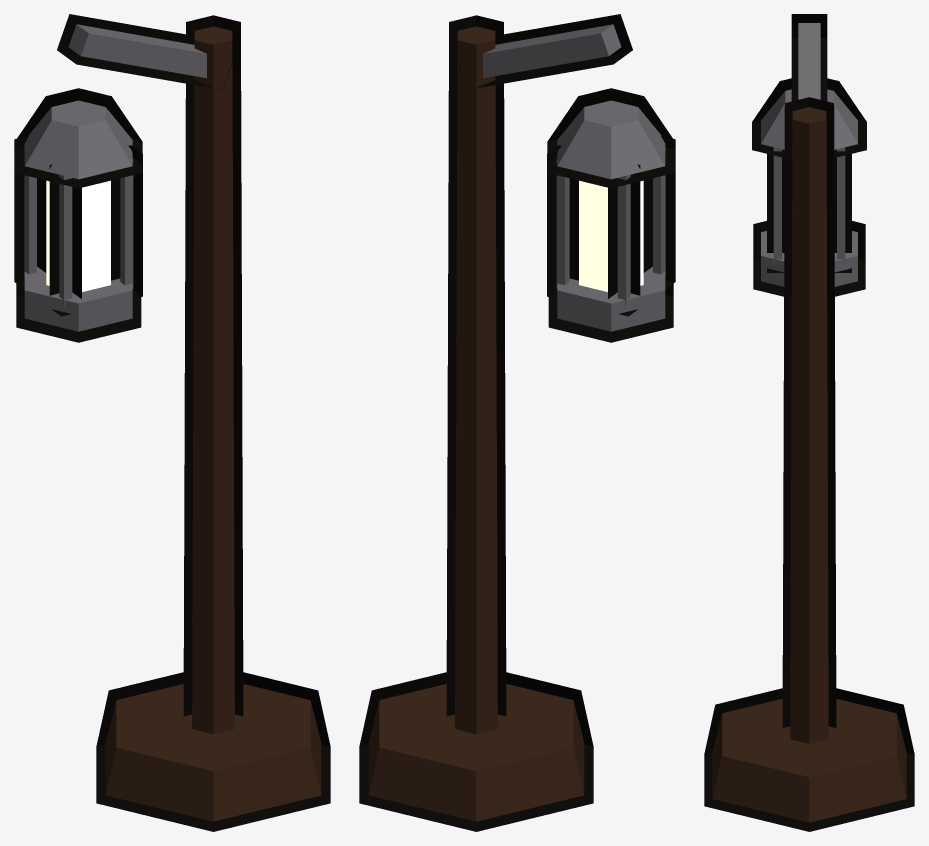
File: lamp.glb
3 renders of one model, left to right at view 1: azimuth 30°, elevation 25°; view 2: azimuth 150°, elevation 25°; view 3: azimuth 270°, elevation 25°, orthographic. The views are drawn at different scales.
Parts seen in each view (by area): view 1: Prop_dq_lamp; view 2: Prop_dq_lamp; view 3: Prop_dq_lamp.
Part boxes in pixels (x1,y1,x2,y2): Prop_dq_lamp: [14, 14, 330, 831]; Prop_dq_lamp: [359, 14, 675, 831]; Prop_dq_lamp: [704, 14, 914, 831].
Size of the model in its own units: 0.5857 by 1.4 by 0.3761.
